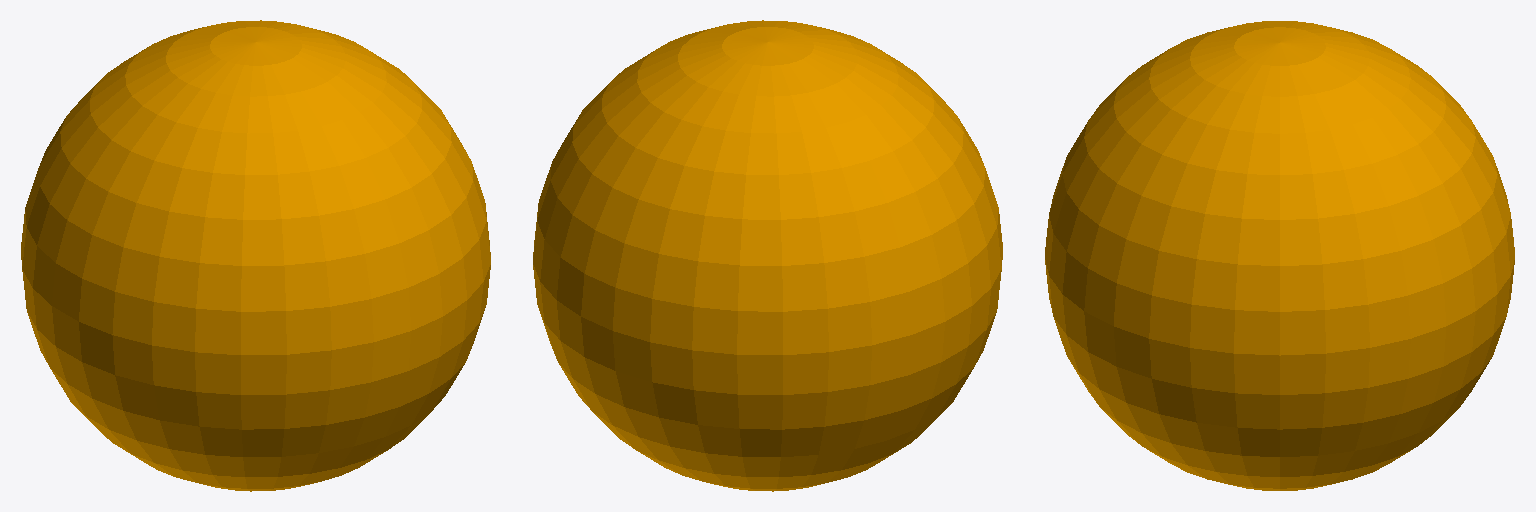
The robot description file, URDF, robot "Point3":
<?xml version="1.0"?>
<robot name="Point3">
  <link name="Point3">
    <inertial>
      <origin xyz="0 0 0" /> 
      <mass value="0.1" />
      <inertia  ixx="1.0" ixy="0.0"  ixz="0.0"  iyy="1.0"  iyz="0.0"  izz="1.0" />
    </inertial>
    <visual>
      <origin xyz="-0.00411042 0.0155016 -0.8763482" rpy="0 0 0"/>
      <geometry>
        <sphere radius="0.01"/>
      </geometry>
    </visual>
    <collision>
      <origin xyz="-0.00411042 0.0155016 -0.8763482" rpy="0 0 0"/>
      <geometry>
        <sphere radius="0"/>
      </geometry>
    </collision>
  </link>
  <gazebo reference="Point3">
    <material>Gazebo/Red</material>
    <turnGravityOff>true</turnGravityOff>
  </gazebo>
</robot>

--- What the picture shows (computed from the rendered views, not written in the file) ---
3 views of the same robot in one strip: view 1: azimuth 30°, elevation 25°; view 2: azimuth 150°, elevation 25°; view 3: azimuth 270°, elevation 25° (orthographic).
Robot: Point3 — 1 links, 0 joints (none); root link Point3; default pose: all joints at 0.
Links seen in each view (by area): view 1: Point3; view 2: Point3; view 3: Point3.
Boxes of the visible links, x1,y1,x2,y2 form: Point3: [21, 20, 490, 491]; Point3: [533, 20, 1002, 491]; Point3: [1045, 21, 1514, 490].
Bounding box of the posed robot: 0.02 × 0.02 × 0.02 m (x, y, z).
Geometry: primitives only (box / cylinder / sphere), no mesh files.